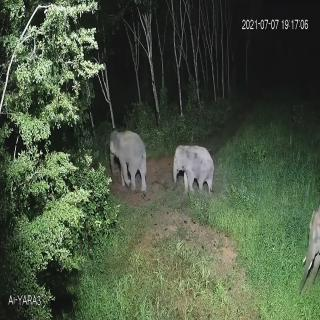Elephant: (168, 131, 218, 203), (107, 118, 151, 196), (294, 193, 320, 299)
